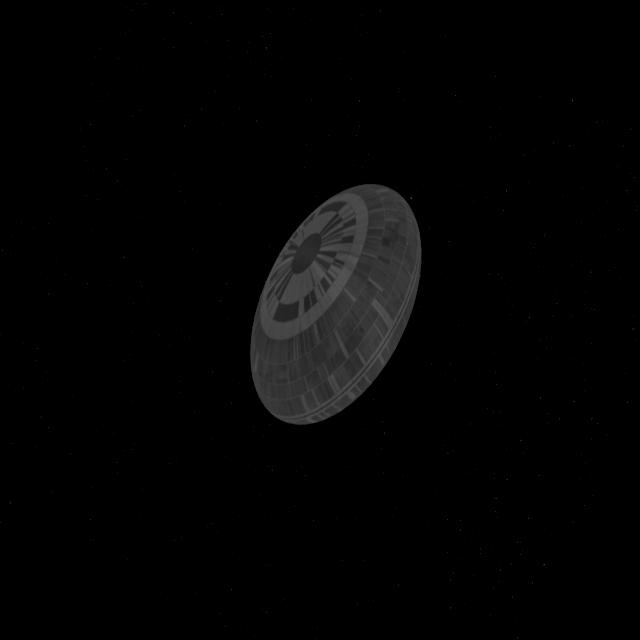death-stars: (248, 182, 421, 426)
